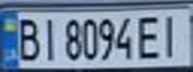0: (78, 15, 100, 61)
4: (115, 14, 139, 61)
8: (60, 15, 81, 62)
9: (97, 15, 118, 61)
B: (12, 15, 42, 62)
E: (136, 12, 166, 61)
I: (157, 11, 190, 58), (36, 15, 60, 61)
